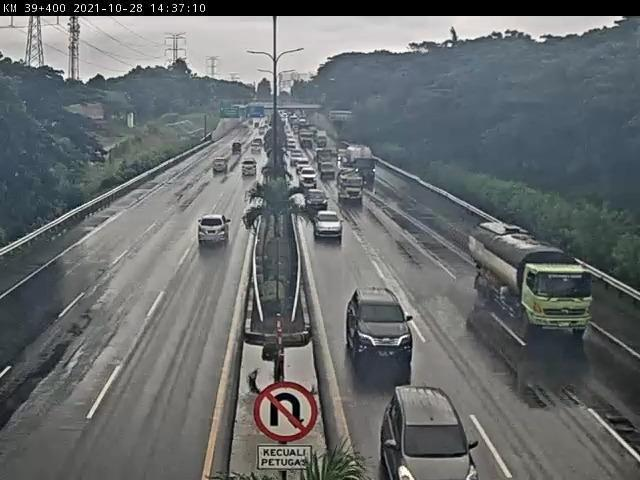car: (374, 382, 481, 480), (346, 284, 421, 366), (193, 213, 234, 250), (312, 211, 351, 245), (304, 192, 330, 215), (299, 165, 320, 187), (240, 160, 259, 182), (295, 157, 313, 175), (211, 159, 229, 176), (320, 162, 336, 180), (231, 140, 245, 156), (249, 145, 263, 158)
truck: (471, 221, 593, 339), (340, 141, 382, 186)
